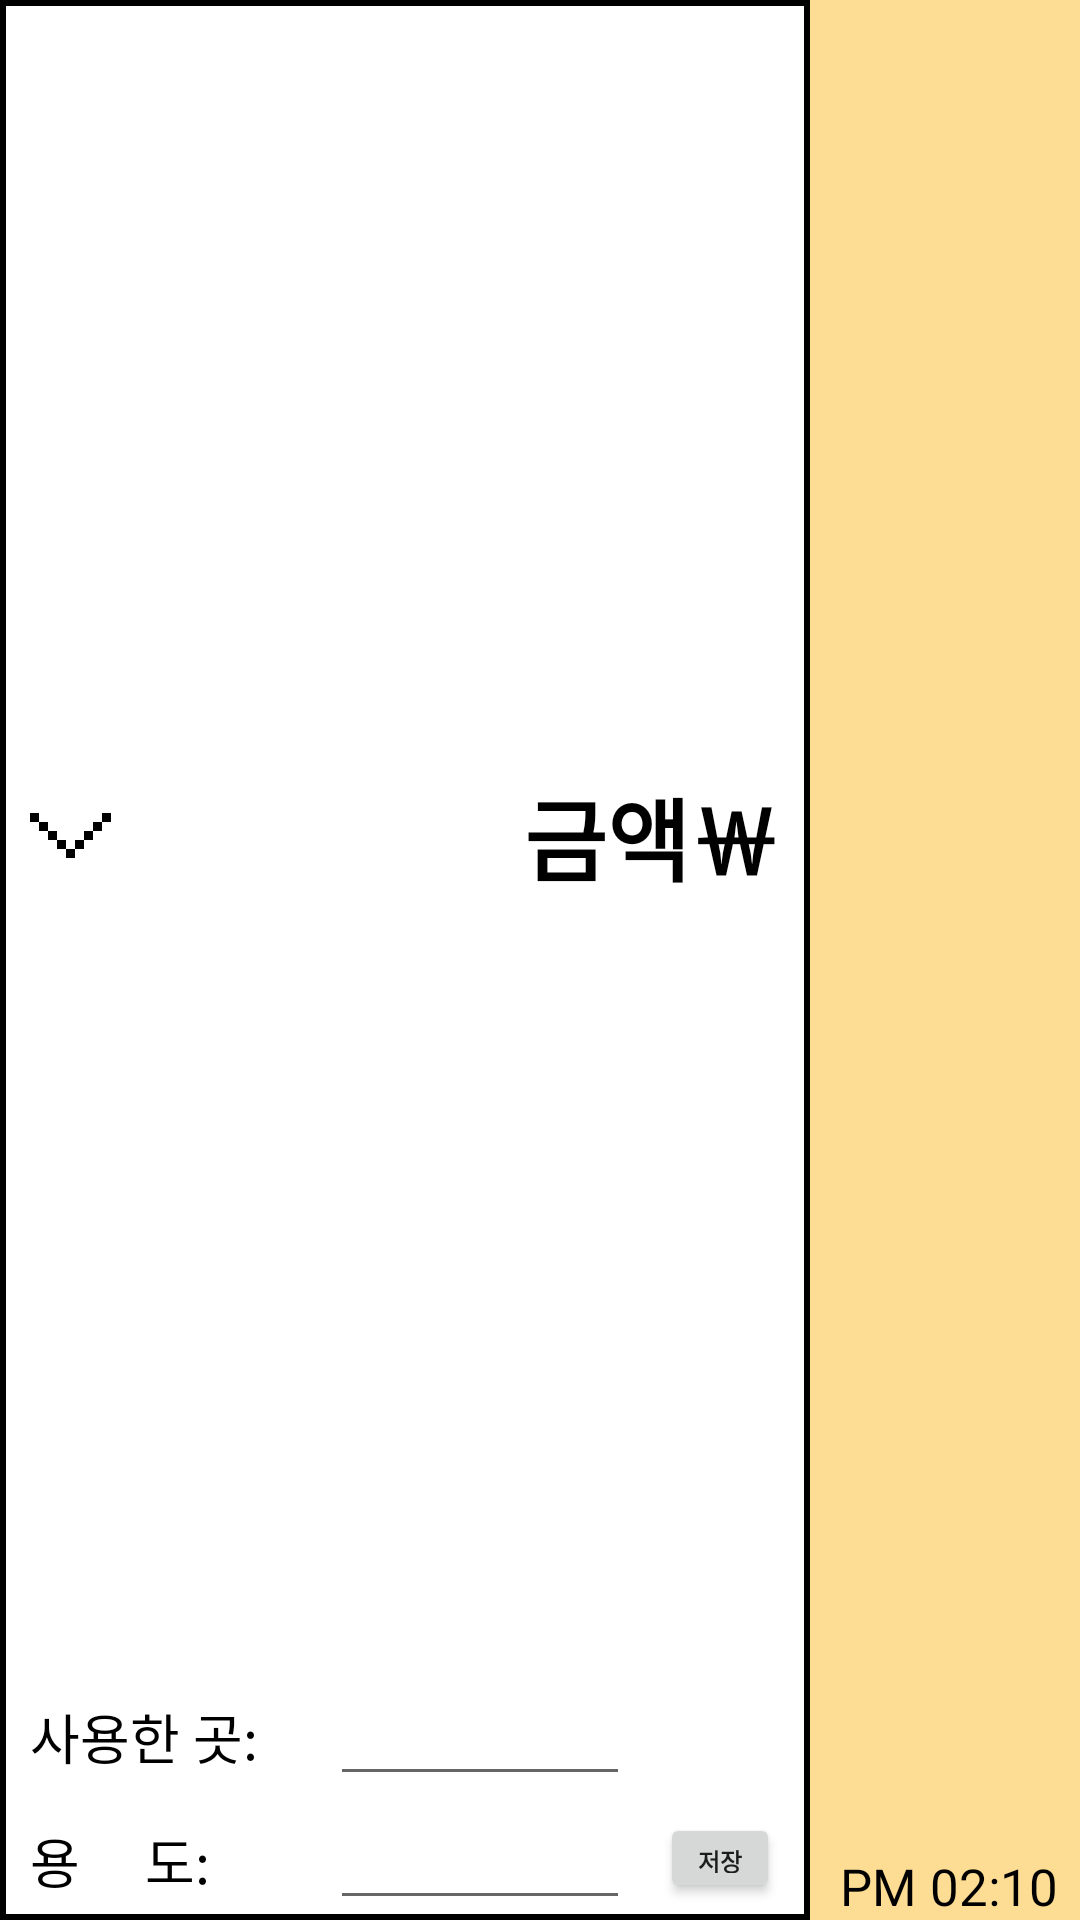

Where icons sit on this 1080px x 1920px app screen, as (x1, y1, x2, y2):
open: (30, 813, 111, 858)
